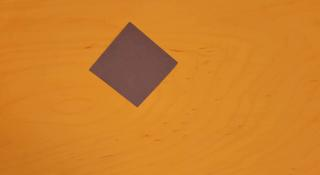Square: (89, 21, 180, 108)
